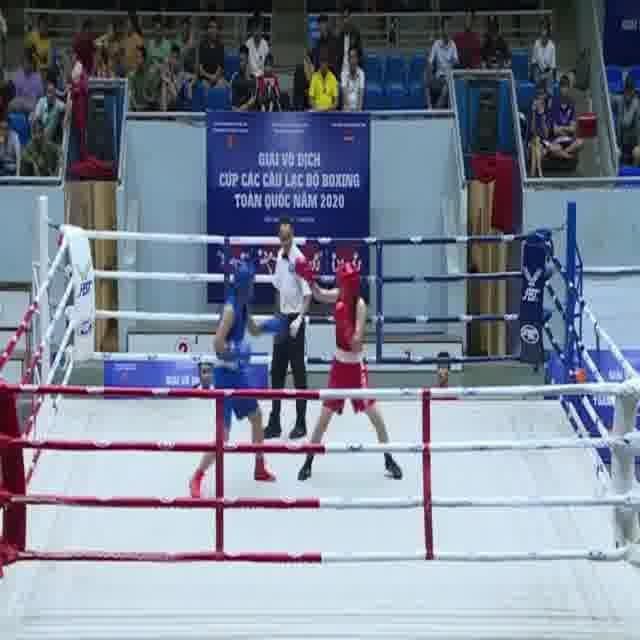blue-player: (188, 256, 287, 503)
red-player: (293, 254, 405, 486)
referee: (259, 216, 311, 439)
